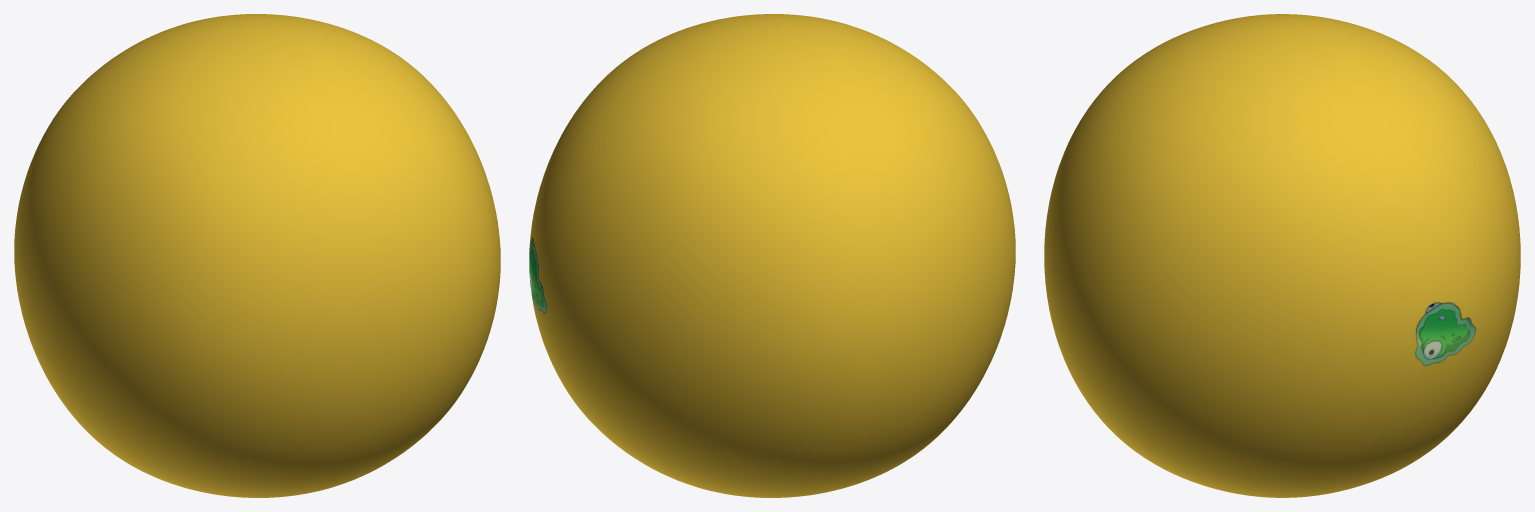
The model's file is goobers2.gltf.
3 renders of one model, left to right at view 1: azimuth 30°, elevation 25°; view 2: azimuth 150°, elevation 25°; view 3: azimuth 270°, elevation 25°, orthographic.
Visible parts, largest first — view 1: Cube; view 2: Cube; view 3: Cube.
Part boxes in pixels (x1=…): Cube: x1=14, y1=14, x2=500, y2=497; Cube: x1=529, y1=14, x2=1015, y2=497; Cube: x1=1044, y1=14, x2=1520, y2=497.
Size of the model in its own units: 1.68 by 1.68 by 1.68.
Materials: 1 (1 with a texture image).
